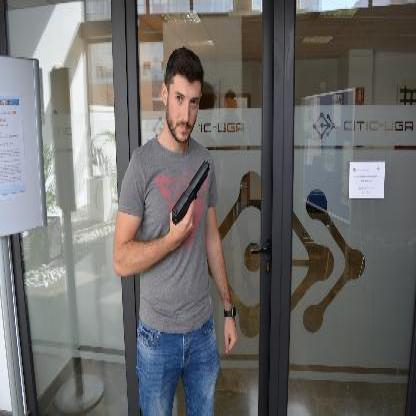pistol: (171, 160, 209, 223)
